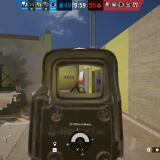Character: (70, 80, 80, 93)
Head: (76, 80, 78, 84)
